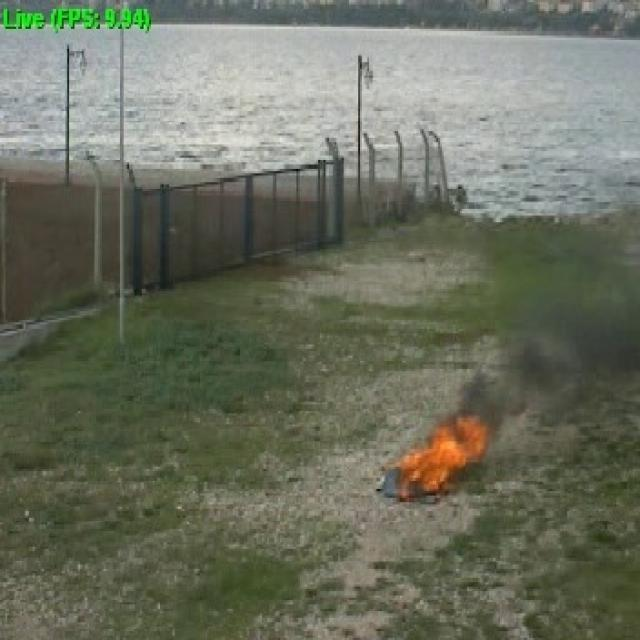Fire: (390, 428, 482, 486)
Smoke: (476, 321, 630, 398)
